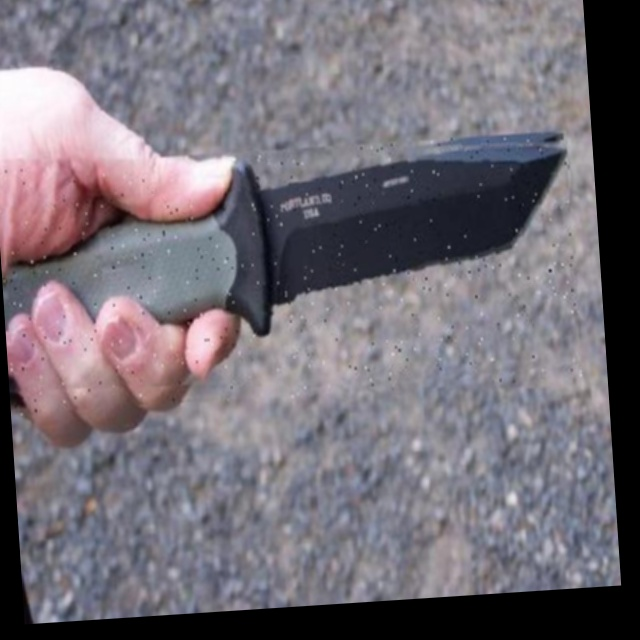Sharp-Object: (0, 131, 581, 416)
